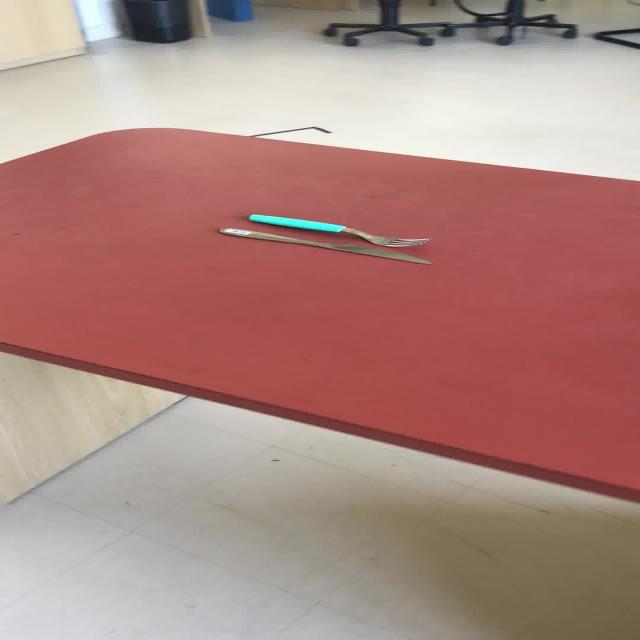fork: (245, 212, 430, 247)
knife fork: (216, 226, 432, 265)
